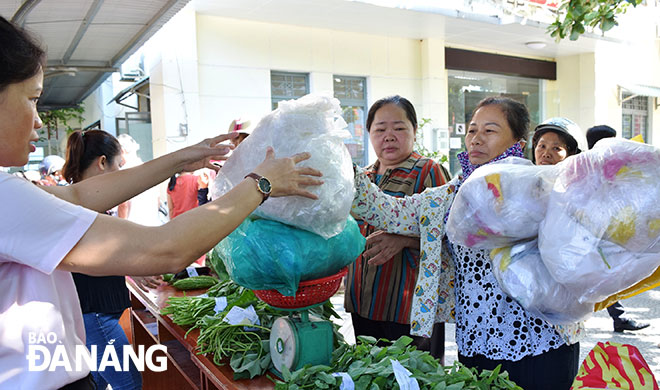plastic bag: (444, 137, 660, 322), (210, 92, 365, 293)
